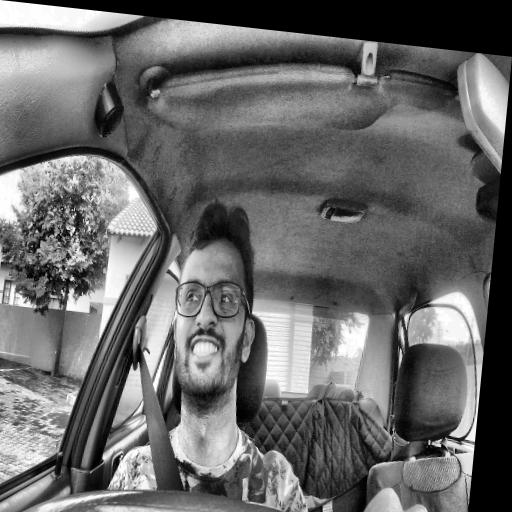awake: (165, 199, 268, 417)
